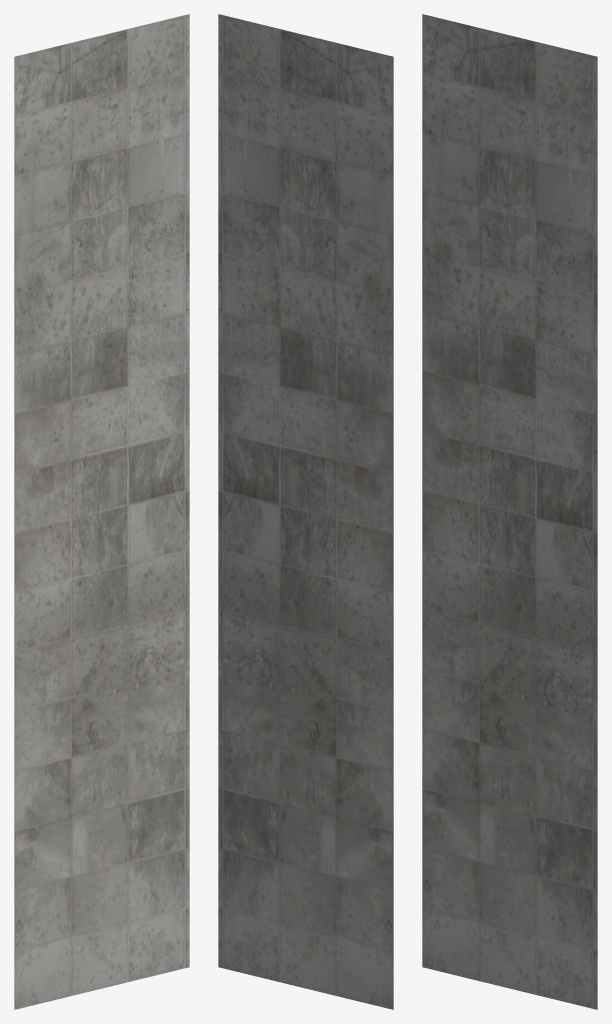
Rendered from SM_Wall_50u_Custom.glb.
3 renders of one model, left to right at view 1: azimuth 30°, elevation 25°; view 2: azimuth 150°, elevation 25°; view 3: azimuth 330°, elevation 25°, orthographic.
Parts seen in each view (by area): view 1: SM_Wall_50u_Custom; view 2: SM_Wall_50u_Custom; view 3: SM_Wall_50u_Custom.
Part boxes in pixels (x1,y1,x2,y2): SM_Wall_50u_Custom: (14, 14, 189, 1009); SM_Wall_50u_Custom: (218, 14, 393, 1009); SM_Wall_50u_Custom: (422, 14, 597, 1009).
Size of the model in its own units: 0.5 by 2.6 by 0.
Materials: 1 (1 with a texture image).
